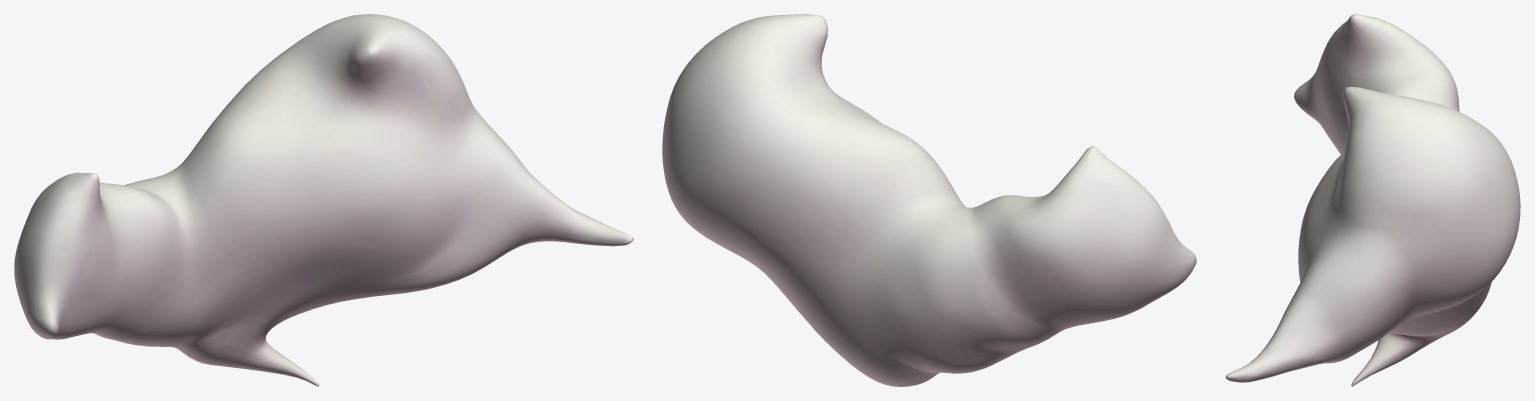
File: sky_cloud_01d.glb
The picture shows the model from 3 angles, left to right: view 1: azimuth 30°, elevation 25°; view 2: azimuth 150°, elevation 25°; view 3: azimuth 270°, elevation 25°; orthographic projection.
Parts seen in each view (by area): view 1: cloud_01d; view 2: cloud_01d; view 3: cloud_01d.
Part boxes in pixels (x1,y1,x2,y2): cloud_01d: (14,14,633,386); cloud_01d: (662,14,1196,386); cloud_01d: (1225,14,1520,386).
Size of the model in its own units: 191 by 109 by 88.79.
Materials: 1 (1 with a texture image).
